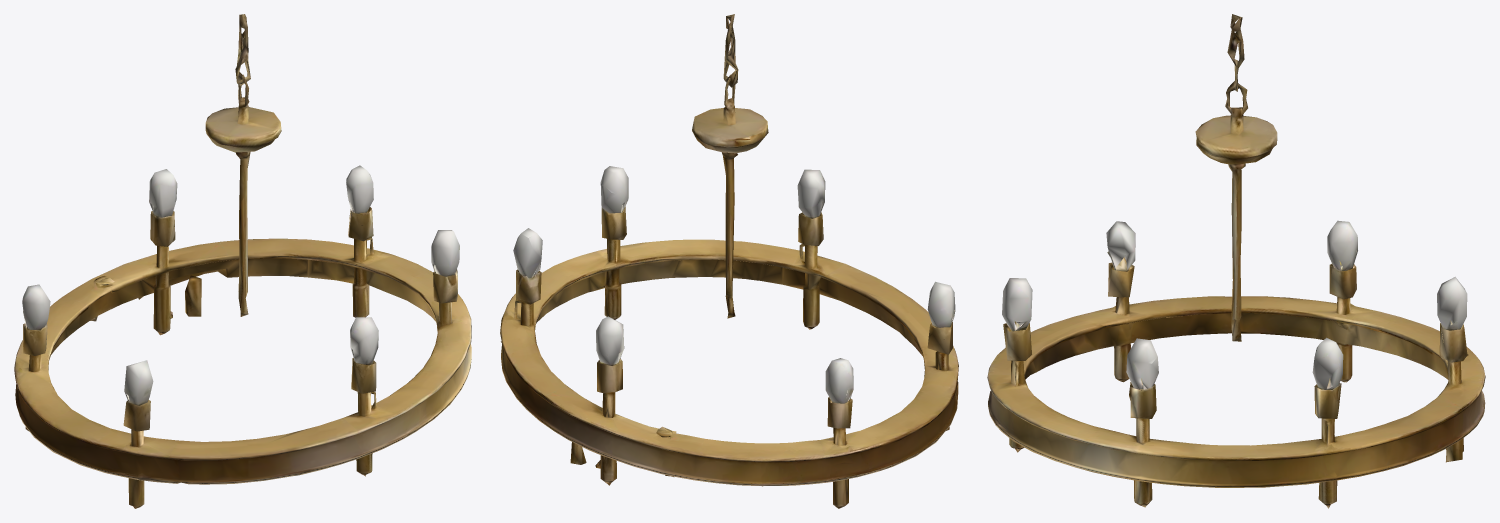
File: chandelier.glb
3 views of the same model, side by side, from view 1: azimuth 30°, elevation 25°; view 2: azimuth 150°, elevation 25°; view 3: azimuth 270°, elevation 25° (orthographic). The views are drawn at different scales.
Parts seen in each view (by area): view 1: tripo_node_9f88ede7-95d7-45ad-9a70-2f3f1f3f7db6; view 2: tripo_node_9f88ede7-95d7-45ad-9a70-2f3f1f3f7db6; view 3: tripo_node_9f88ede7-95d7-45ad-9a70-2f3f1f3f7db6.
Part boxes in pixels (x1,y1,x2,y2): tripo_node_9f88ede7-95d7-45ad-9a70-2f3f1f3f7db6: (14,14,471,508); tripo_node_9f88ede7-95d7-45ad-9a70-2f3f1f3f7db6: (500,14,958,508); tripo_node_9f88ede7-95d7-45ad-9a70-2f3f1f3f7db6: (987,14,1485,508).
Bounding box in the file's own units: 0.9994 × 0.9997 × 1.
Materials: 1 (1 with a texture image).
